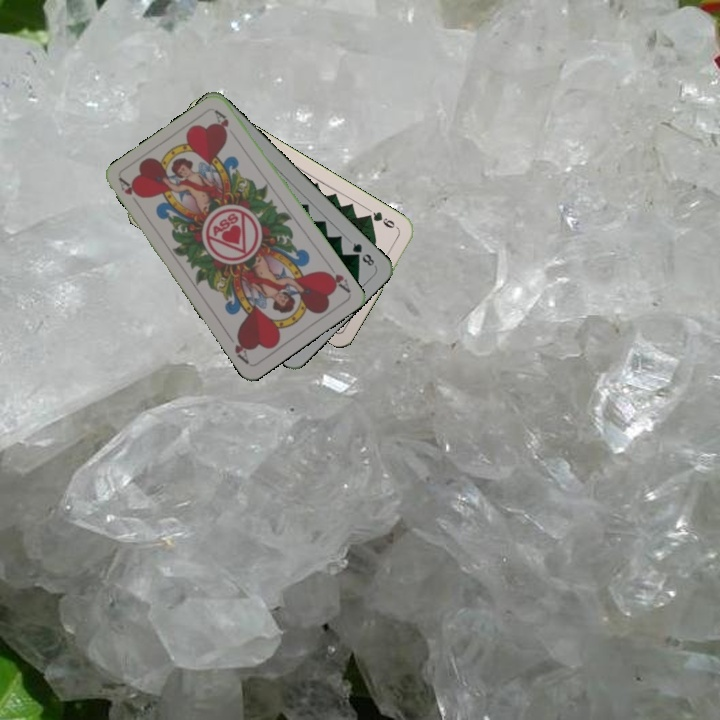G8: (348, 239, 377, 269)
G9: (362, 207, 401, 232)
HA: (115, 175, 144, 210), (320, 266, 353, 295)
